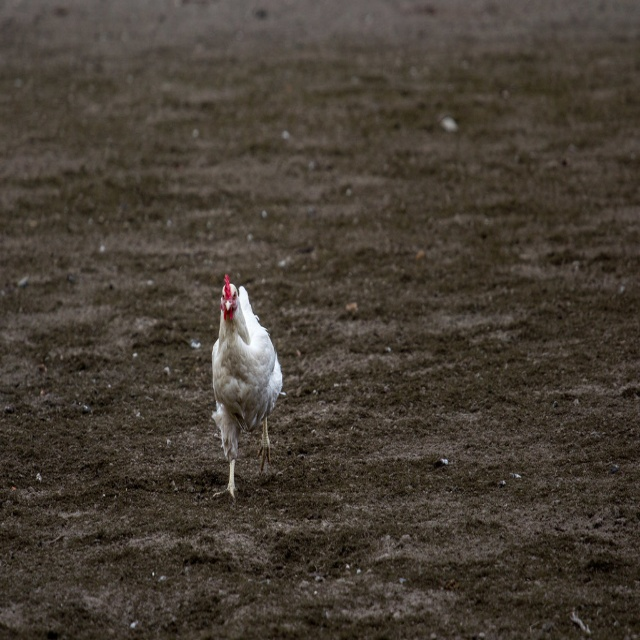Chicken: (211, 279, 287, 501)
